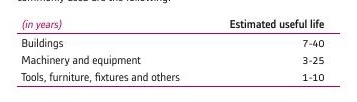table: (0, 0, 357, 102)
